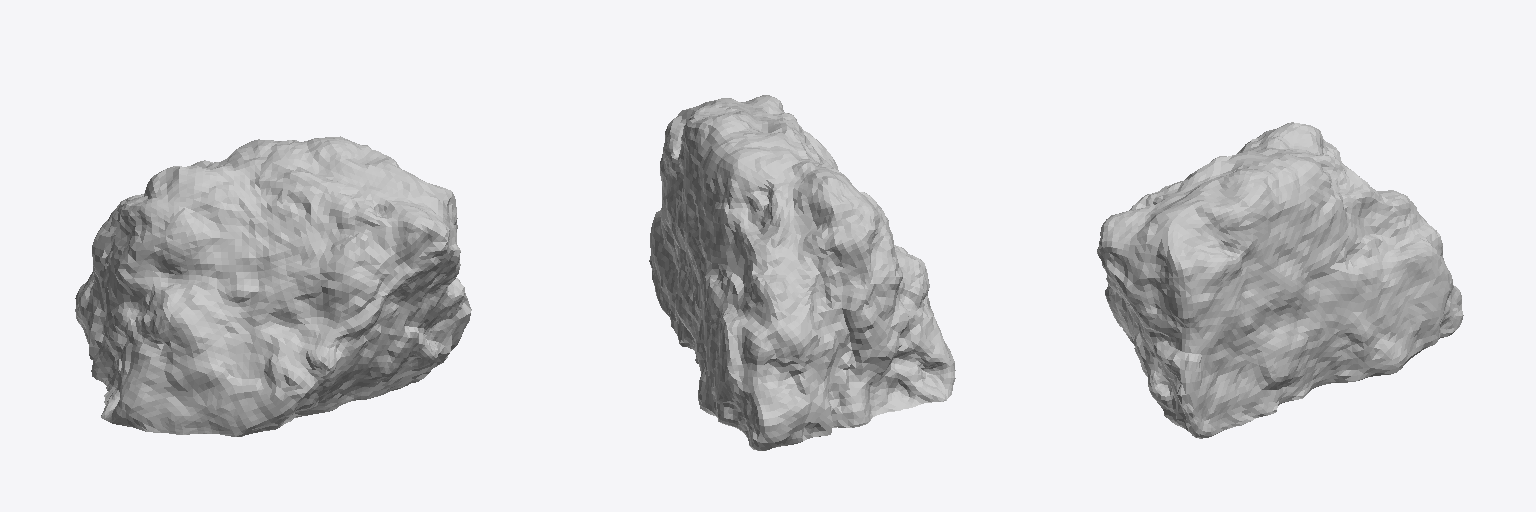
The model's file is rock.obj.
3 renders of one model, left to right at view 1: azimuth 30°, elevation 25°; view 2: azimuth 150°, elevation 25°; view 3: azimuth 270°, elevation 25°, orthographic.
Parts seen in each view (by area): view 1: Group38189; view 2: Group38189; view 3: Group38189.
Boxes of the visible parts, <box> form: Group38189: <box>75,136,471,436</box>; Group38189: <box>649,95,955,450</box>; Group38189: <box>1097,122,1463,438</box>.
Bounding box in the file's own units: 8.27 × 5.36 × 7.9.